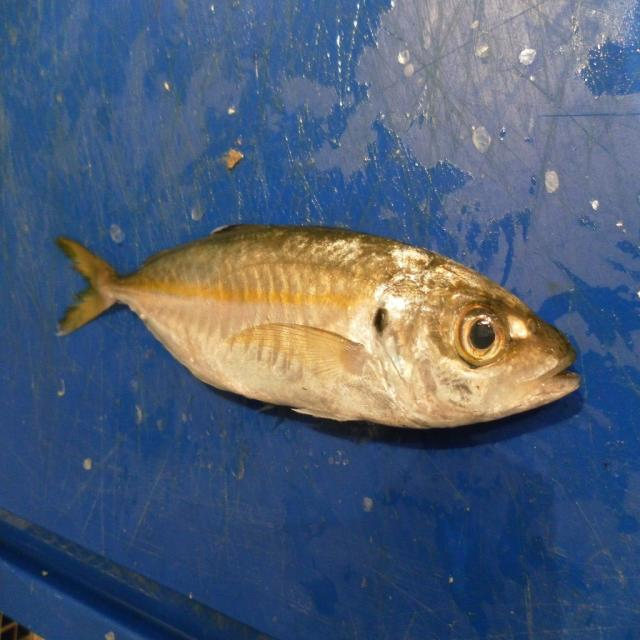Hourse-Mackerel-istavrit-: (56, 223, 582, 432)
